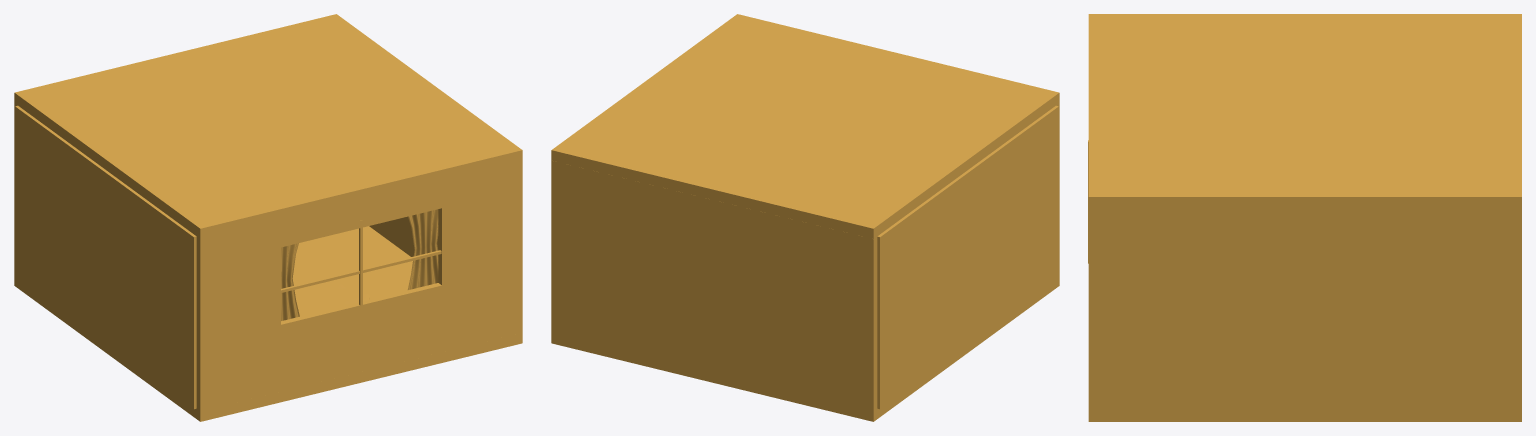
3 renders of one model, left to right at view 1: azimuth 30°, elevation 25°; view 2: azimuth 150°, elevation 25°; view 3: azimuth 270°, elevation 25°, orthographic. The views are drawn at different scales.
Parts seen in each view (by area): view 1: Uv_005; view 2: Uv_005; view 3: Uv_005.
Boxes of the visible parts, x1=… form: Uv_005: x1=14, y1=14, x2=522, y2=421; Uv_005: x1=551, y1=14, x2=1059, y2=421; Uv_005: x1=1088, y1=14, x2=1521, y2=421.
Bounding box in the file's own units: 505 × 287 × 501.
